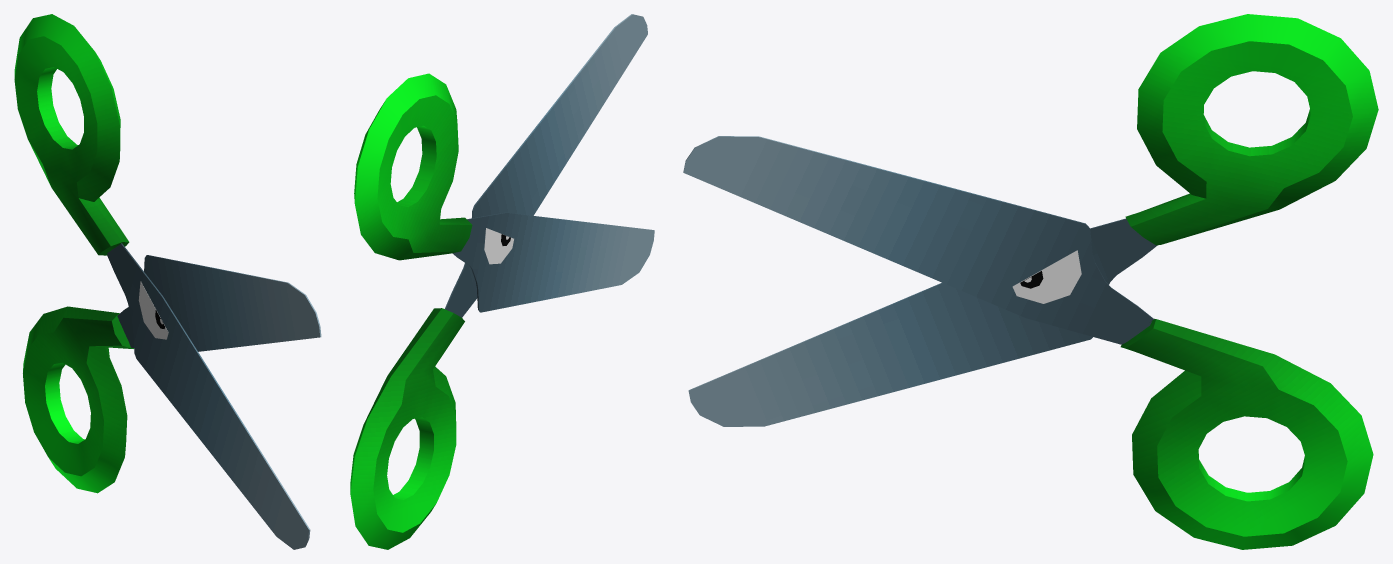
Rendered from Scissors.FBX.
3 renders of one model, left to right at view 1: azimuth 30°, elevation 25°; view 2: azimuth 150°, elevation 25°; view 3: azimuth 270°, elevation 25°, orthographic. The views are drawn at different scales.
Visible parts, largest first — view 1: Torus002, Torus001, Plane006, Plane015, Plane012; view 2: Torus001, Torus002, Plane006, Plane015, Plane012; view 3: Plane015, Torus002, Torus001, Plane006, Plane009.
Part boxes in pixels (left/top/right/bottom): Torus002: left=14, top=14, right=129, bottom=255; Torus001: left=23, top=306, right=133, bottom=493; Plane006: left=107, top=243, right=310, bottom=549; Plane015: left=117, top=255, right=321, bottom=351; Plane012: left=138, top=281, right=168, bottom=339; Torus001: left=350, top=308, right=464, bottom=549; Torus002: left=354, top=73, right=472, bottom=260; Plane006: left=452, top=212, right=654, bottom=312; Plane015: left=445, top=14, right=647, bottom=317; Plane012: left=484, top=228, right=513, bottom=264; Plane015: left=683, top=136, right=1153, bottom=344; Torus002: left=1125, top=14, right=1378, bottom=245; Torus001: left=1120, top=318, right=1373, bottom=549; Plane006: left=688, top=218, right=1157, bottom=426; Plane009: left=1012, top=250, right=1081, bottom=303.
Size of the model in its own units: 1.52 by 20.22 by 23.79.
1 material, 1 textured.
